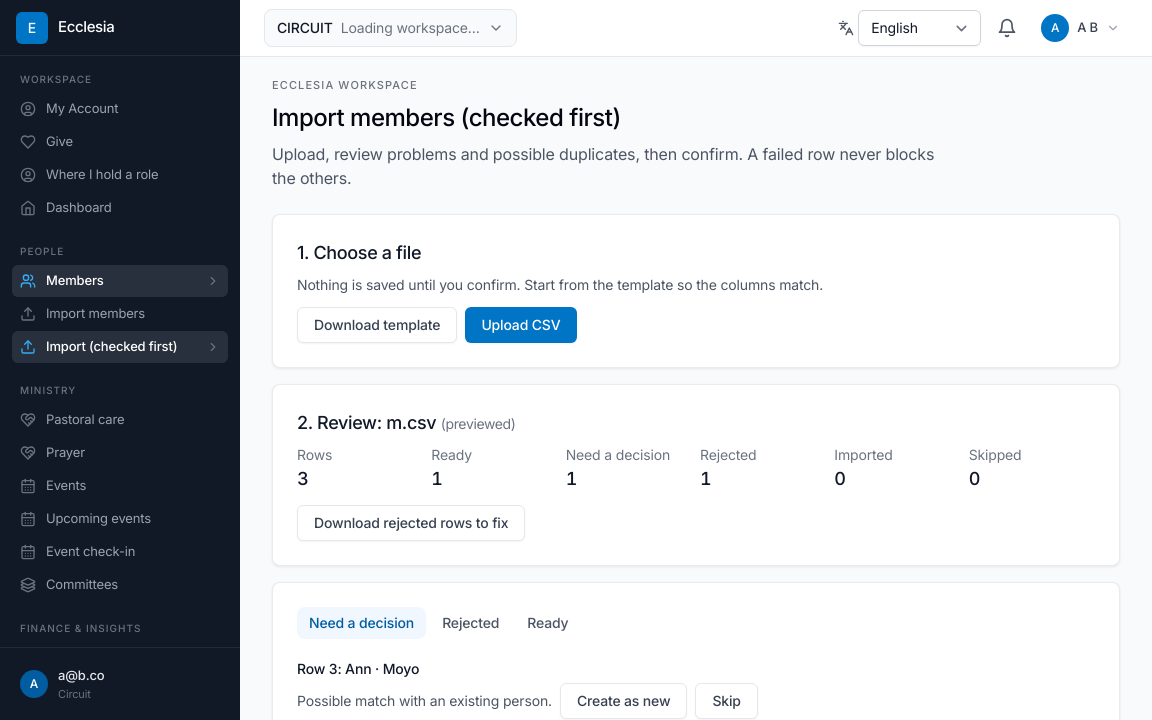
checked member import › uploads, shows a row needing a decision, records it, and blocks confirm until it is decided or skipped
Earlier steps of the test are not shown.
Expected: the text "Row 3: Ann · Moyo" is shown, [297,660,419,676]
What coordinates should you click on to do the following:
click the button "Create as new"
I would click on:
 (624, 700)
Its box is [560,682,687,718].
(page scrolled)
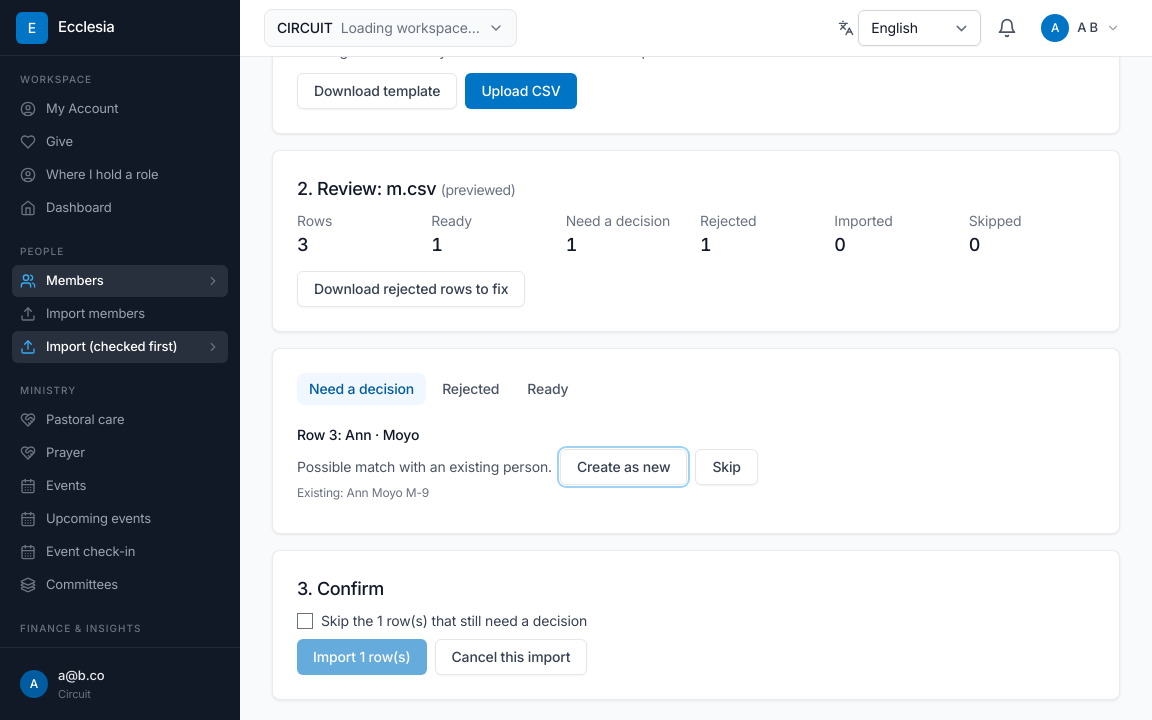
What coordinates should you click on to do the following:
click the checkbox labelled "Skip the 1 row(s) that still need a decision"
I would click on:
 (305, 620)
Its box is [297,612,313,628].
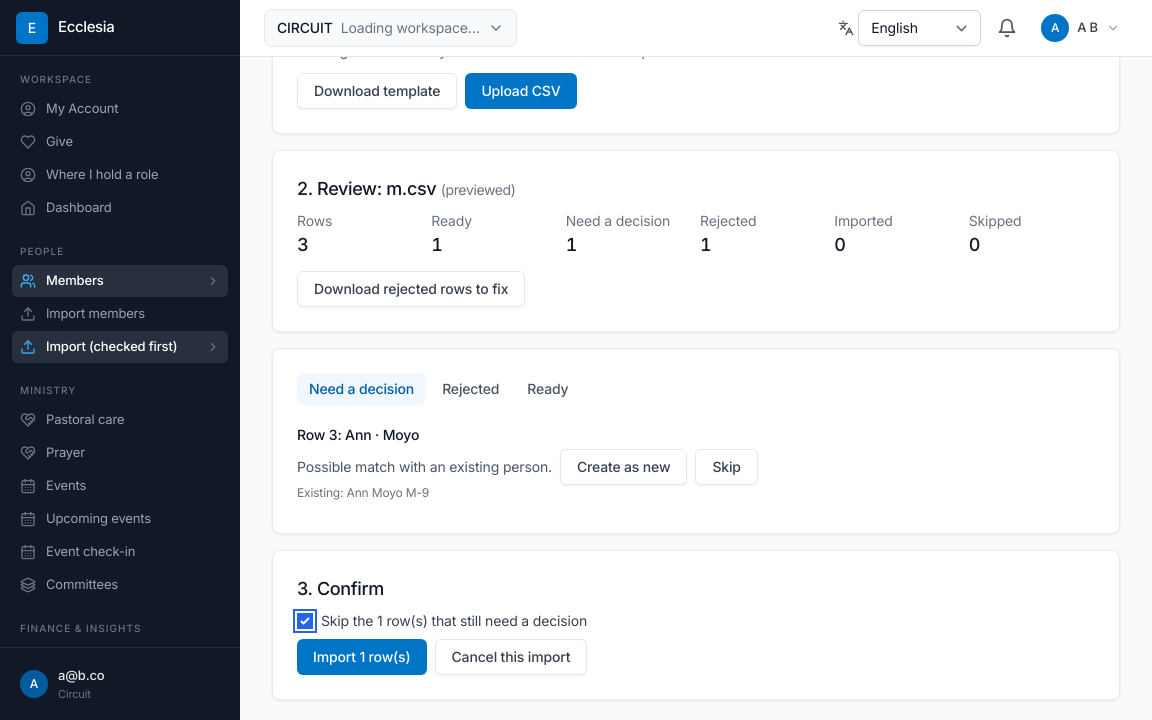
Now the button "Import 1 row(s)" is enabled, box [297,638,426,674]
